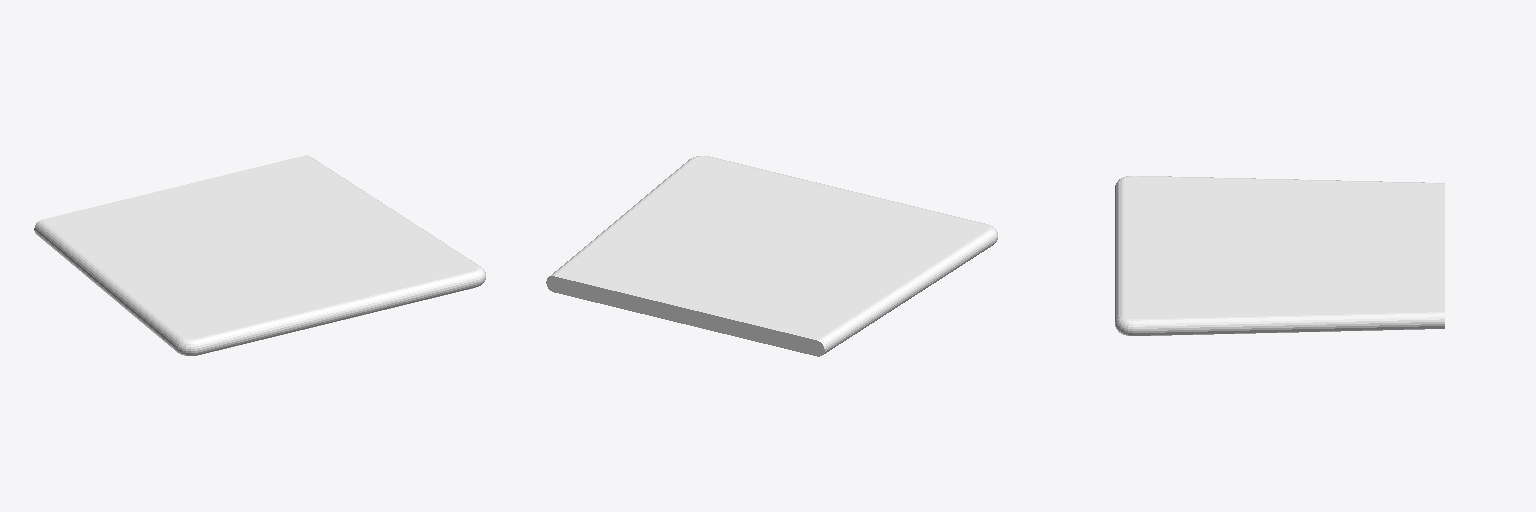
File: seat.obj
3 views of the same model, side by side, from view 1: azimuth 30°, elevation 25°; view 2: azimuth 150°, elevation 25°; view 3: azimuth 270°, elevation 25° (orthographic).
Visible parts, largest first — view 1: seat; view 2: seat; view 3: seat.
Part boxes in pixels (left/top/right/bottom): seat: left=34, top=155, right=485, bottom=355; seat: left=546, top=156, right=997, bottom=356; seat: left=1115, top=176, right=1444, bottom=335.
Bounding box in the file's own units: 15.75 × 0.7875 × 14.58.